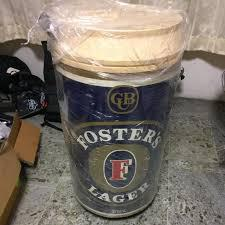beer: (50, 7, 188, 219)
